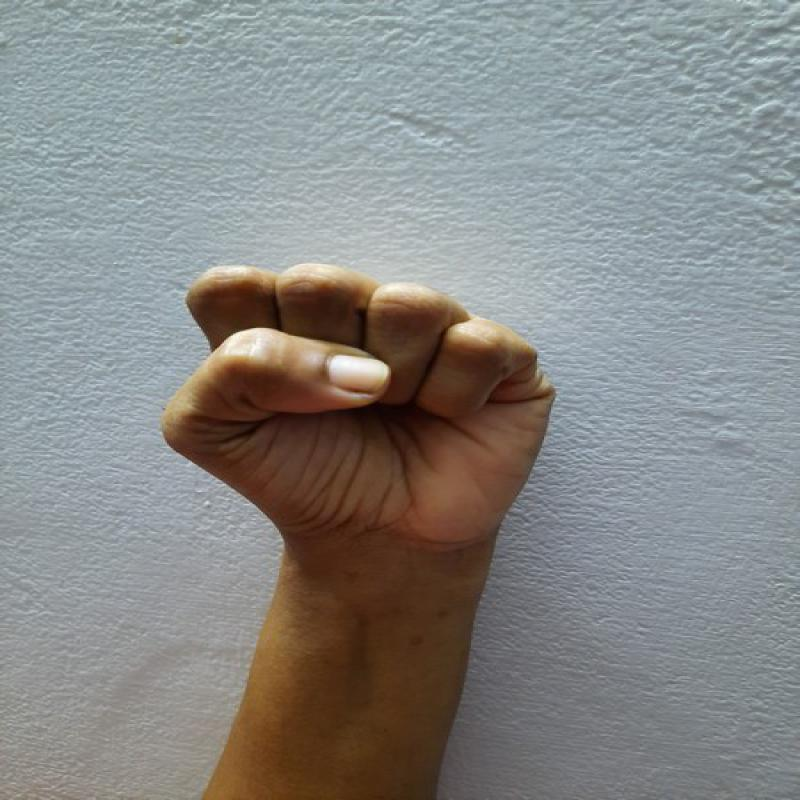Mushti: (144, 237, 569, 620)
